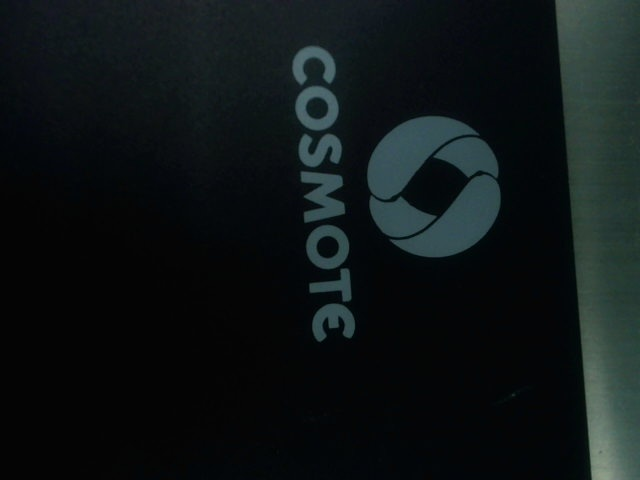AU_COSMOTE: (265, 39, 508, 371)
